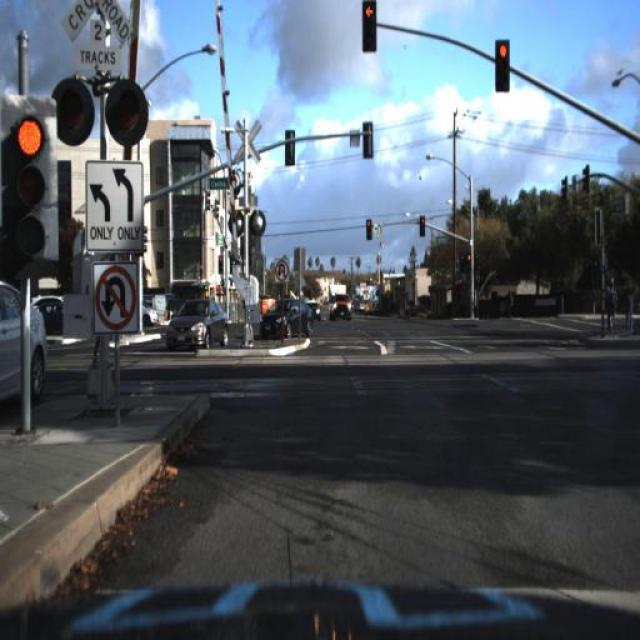car: (1, 280, 48, 420), (154, 292, 230, 356), (252, 295, 310, 343), (137, 298, 164, 332), (328, 292, 352, 322)
trafficLight: (600, 255, 620, 355), (623, 272, 635, 358), (502, 269, 518, 326)
trafficLight-RedLeft: (7, 103, 53, 262), (496, 40, 510, 80), (362, 214, 372, 244), (417, 212, 427, 238), (463, 247, 472, 265)
trafficLight-Yellow: (360, 1, 374, 47)
